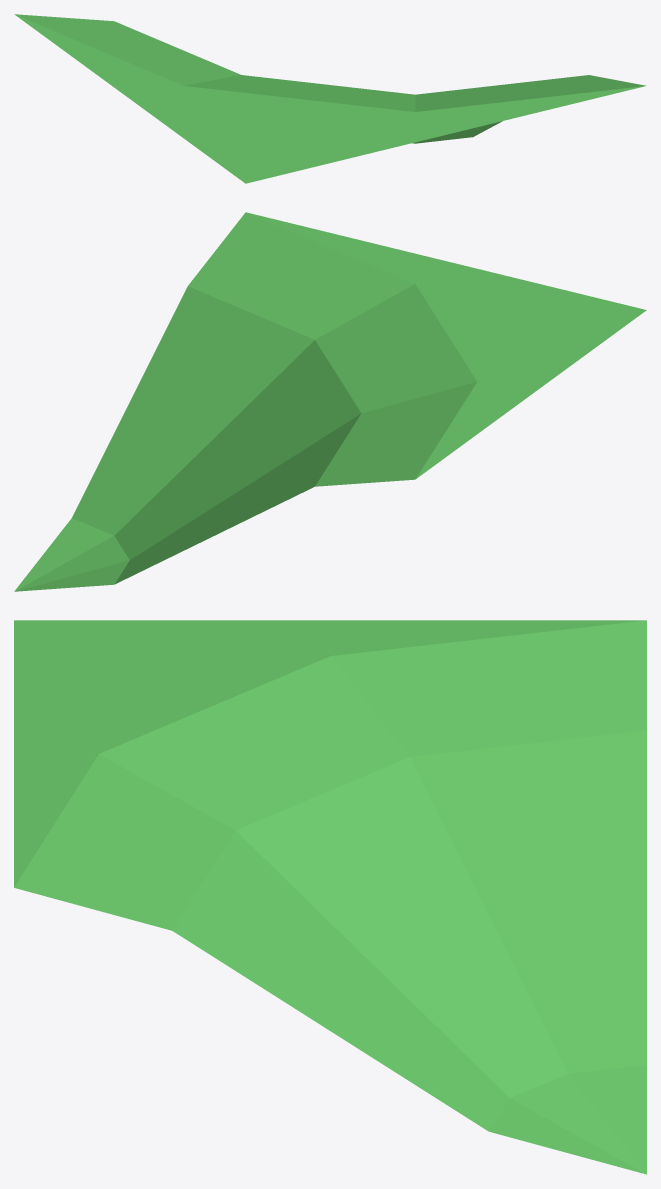
File: Hilly_Terrain_Hill_Corner_Inner_2x2.glb
3 views of the same model, one above another, from view 1: azimuth 30°, elevation 25°; view 2: azimuth 150°, elevation 25°; view 3: azimuth 270°, elevation 25° (orthographic). The views are drawn at different scales.
Visible parts, largest first — view 1: Hilly_Terrain_Hill_Corner_Inner_2x2; view 2: Hilly_Terrain_Hill_Corner_Inner_2x2; view 3: Hilly_Terrain_Hill_Corner_Inner_2x2.
Boxes of the visible parts, <box> form: Hilly_Terrain_Hill_Corner_Inner_2x2: <box>14,14,646,183</box>; Hilly_Terrain_Hill_Corner_Inner_2x2: <box>14,212,646,591</box>; Hilly_Terrain_Hill_Corner_Inner_2x2: <box>14,620,646,1174</box>.
Size of the model in its own units: 0.99 by 0.495 by 0.99.
